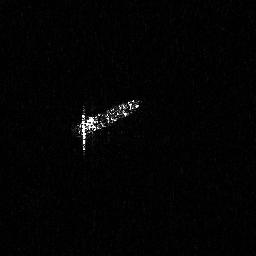ship: (70, 96, 145, 159)
